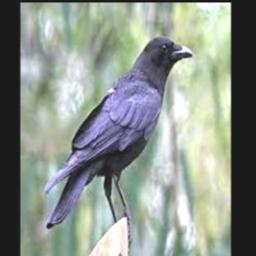Crow: (42, 35, 192, 247)
